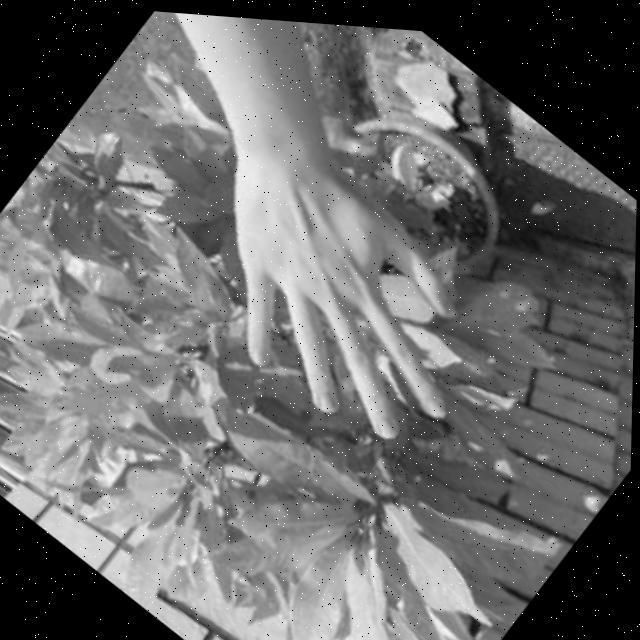no-gloves: (152, 112, 526, 478)
